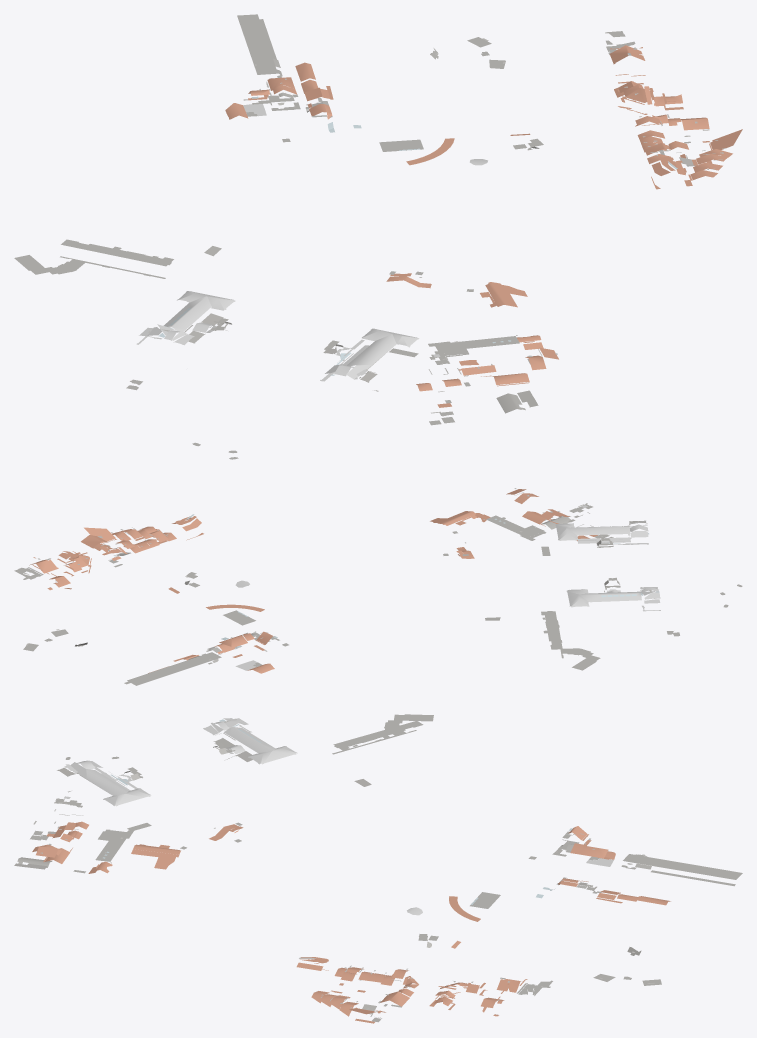
File: bati-toits-b5.glb
3 renders of one model, top to bottom at view 1: azimuth 30°, elevation 25°; view 2: azimuth 150°, elevation 25°; view 3: azimuth 270°, elevation 25°, orthographic. The views are drawn at different scales.
Parts seen in each view (by area): view 1: bati-toits-b5; view 2: bati-toits-b5; view 3: bati-toits-b5.
Boxes of the visible parts, left/top/right/bottom form: bati-toits-b5: left=14, top=14, right=742, bottom=459; bati-toits-b5: left=14, top=488, right=742, bottom=685; bati-toits-b5: left=14, top=714, right=742, bottom=1023.
Size of the model in its own units: 423 by 45.95 by 445.
